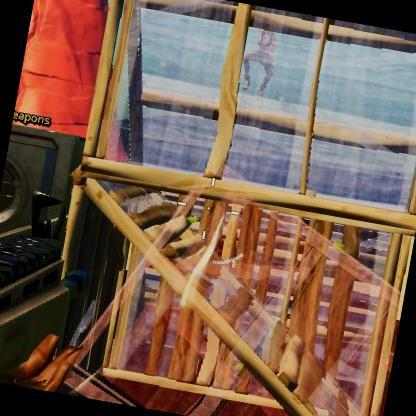person: (238, 8, 290, 105)
